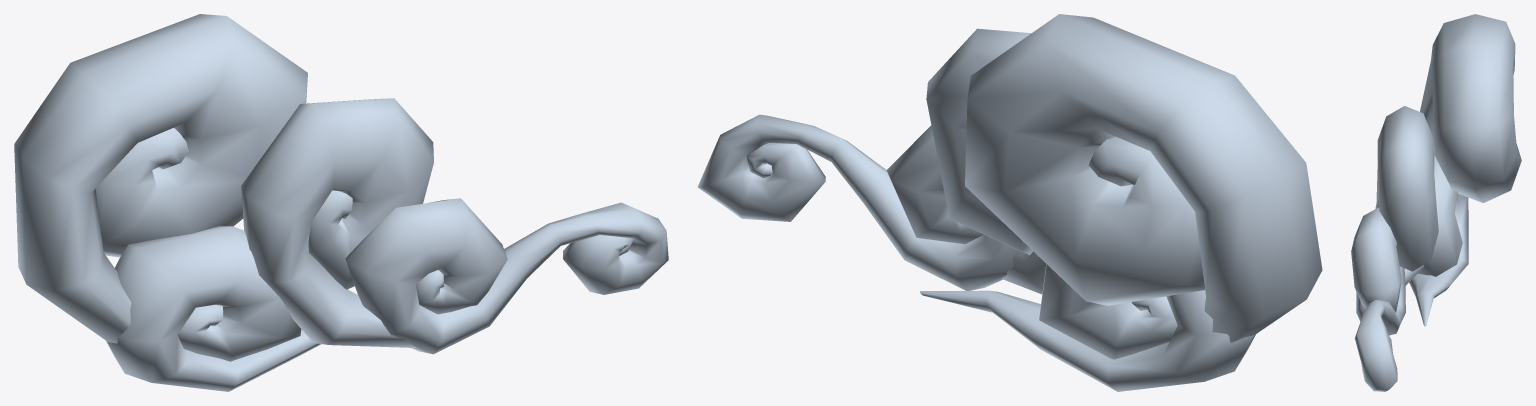
Rendered from cloud_03.fbx.
3 views of the same model, side by side, from view 1: azimuth 30°, elevation 25°; view 2: azimuth 150°, elevation 25°; view 3: azimuth 270°, elevation 25° (orthographic). The views are drawn at different scales.
Parts seen in each view (by area): view 1: cloud_03; view 2: cloud_03; view 3: cloud_03.
Boxes of the visible parts, bbox=[...] form: cloud_03: bbox=[14, 14, 668, 391]; cloud_03: bbox=[697, 14, 1322, 391]; cloud_03: bbox=[1351, 14, 1521, 391].
Bounding box in the file's own units: 888 × 484 × 307.
